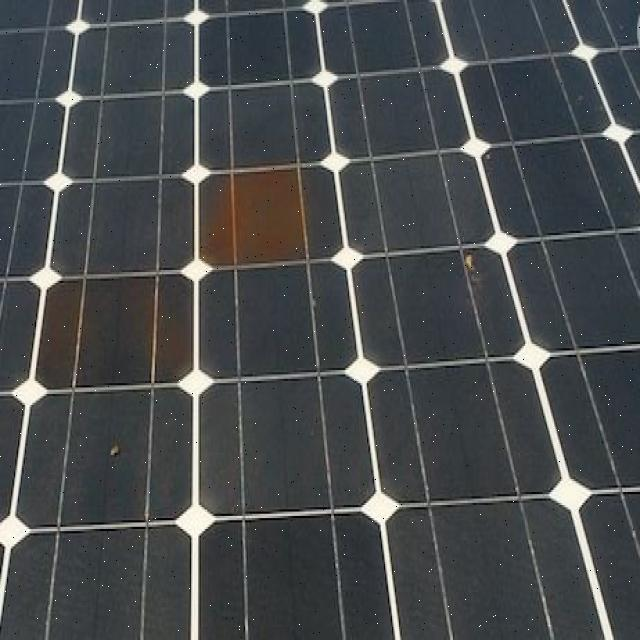electrical damage: (40, 274, 197, 390), (195, 165, 311, 268)
